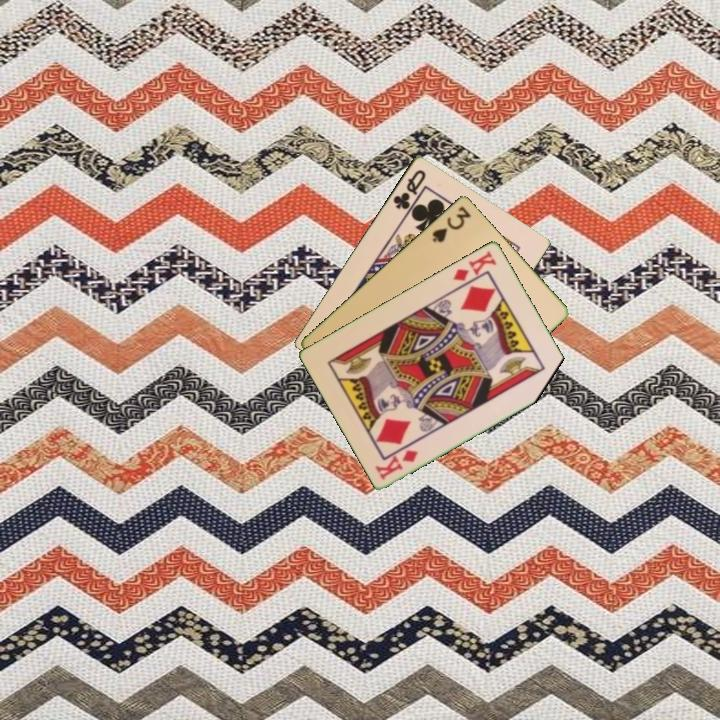3s: (429, 202, 474, 245)
Kd: (449, 247, 500, 284), (372, 446, 421, 483)
Qc: (389, 165, 429, 212)
